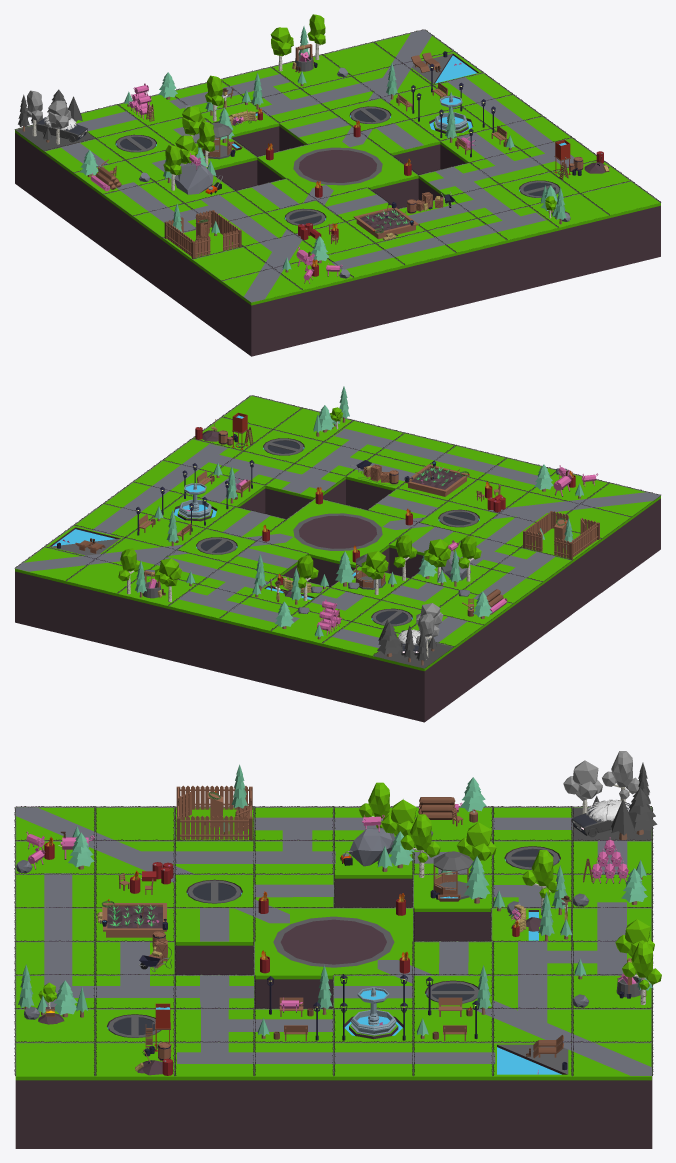
File: Level_Final.fbx
The picture shows the model from 3 angles, top to bottom: view 1: azimuth 30°, elevation 25°; view 2: azimuth 150°, elevation 25°; view 3: azimuth 270°, elevation 25°; orthographic projection. The views are drawn at different scales.
Visible parts, largest first — view 1: SM_Roads, SM_SimpleTile.029, SM_OinkZone, SM_TreasureSpot, SM_Ghoul, SM_SimpleTile.058, SM_Somebody, SM_SimpleTile.057, SM_SimpleTile.056, SM_SimpleTile.055, SM_SimpleTile.030, SM_Alcove (+49 smaller); view 2: SM_Roads, SM_Ghoul, SM_Well, SM_Triforce, SM_Somebody, SM_SimpleTile.024, SM_SimpleTile.027, SM_SimpleTile.020, SM_SimpleTile.023, SM_SimpleTile.061, SM_Lumberyard, SM_Alcove (+49 smaller); view 3: SM_Roads, SM_WorkZone, SM_SimpleTile.058, SM_ChillZone, SM_Alcove, SM_SimpleTile.059, SM_SimpleTile.060, SM_SimpleTile.038, SM_SimpleTile.037, SM_SimpleTile.027, SM_Horror, SM_Ghoul (+48 smaller).
Part boxes in pixels (x1,y1,x2,y2): SM_Roads: (61,29,574,302); SM_SimpleTile.029: (221,268,302,356); SM_OinkZone: (272,236,353,343); SM_TreasureSpot: (528,185,609,281); SM_Ghoul: (14,89,95,204); SM_SimpleTile.058: (579,180,660,268); SM_Somebody: (162,203,243,312); SM_SimpleTile.057: (426,218,507,306); SM_SimpleTile.056: (375,230,456,318); SM_SimpleTile.055: (327,243,405,331); SM_SimpleTile.030: (477,205,558,293); SM_Alcove: (182,106,257,190); SM_Roads: (15,428,660,647); SM_Ghoul: (373,603,454,722); SM_Well: (117,548,198,659); SM_Triforce: (270,599,351,697); SM_Somebody: (520,511,601,613); SM_SimpleTile.024: (66,559,137,647); SM_SimpleTile.027: (14,546,95,634); SM_SimpleTile.020: (219,596,297,684); SM_SimpleTile.023: (168,584,249,672); SM_SimpleTile.061: (322,621,399,709); SM_Lumberyard: (439,589,513,678); SM_Alcove: (329,535,417,599); SM_Roads: (15,807,651,1075); SM_WorkZone: (94,1003,176,1148); SM_SimpleTile.058: (14,1041,96,1148); SM_ChillZone: (491,1035,573,1148); SM_Alcove: (400,814,496,941); SM_SimpleTile.059: (332,1041,414,1148); SM_SimpleTile.060: (412,1041,494,1148); SM_SimpleTile.038: (253,1041,335,1148); SM_SimpleTile.037: (173,1041,255,1148); SM_SimpleTile.027: (571,1041,653,1148); SM_Horror: (332,782,416,907); SM_Ghoul: (563,751,657,840).
Size of the model in its own units: 1609 by 369 by 1630.
35 materials, 4 textured.
